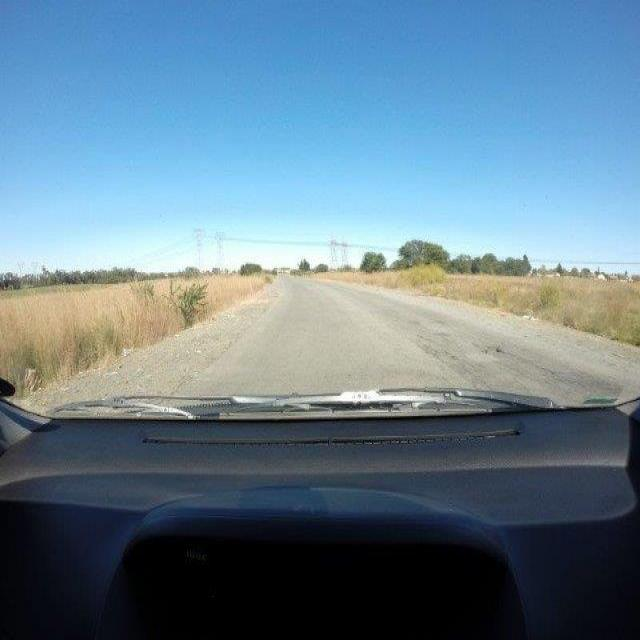jalan retak: (503, 349, 621, 391), (476, 340, 506, 358)
